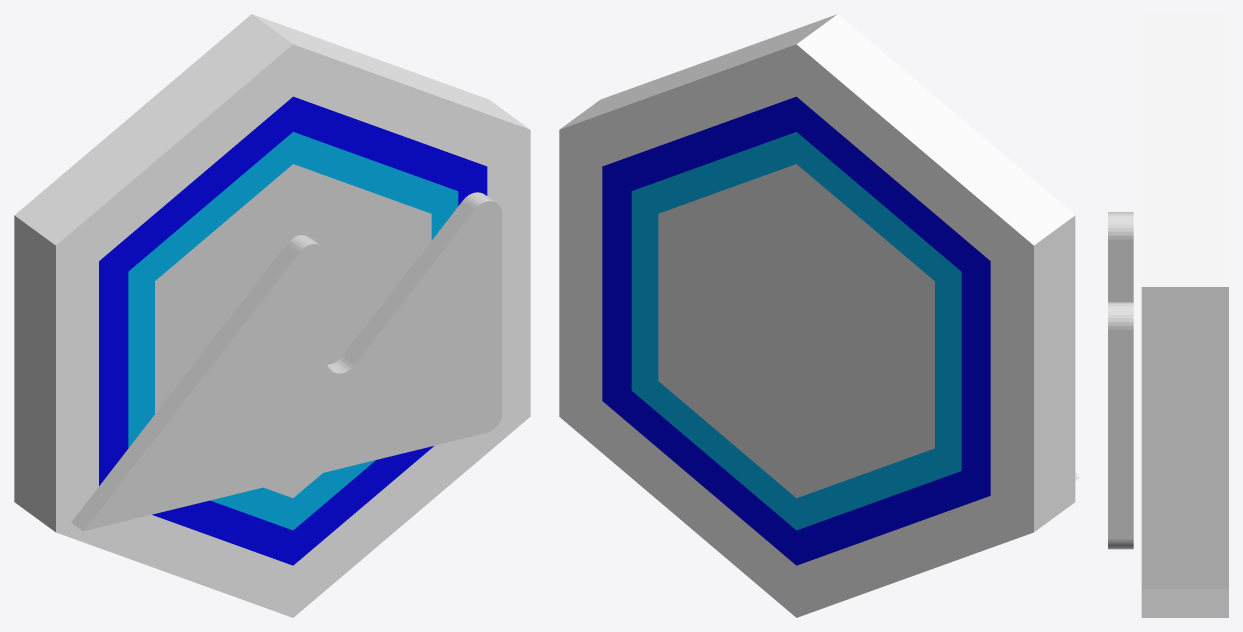
The model's file is hexagono3d.glb.
The picture shows the model from 3 angles, left to right: view 1: azimuth 30°, elevation 25°; view 2: azimuth 150°, elevation 25°; view 3: azimuth 270°, elevation 25°; orthographic projection. The views are drawn at different scales.
Parts seen in each view (by area): view 1: Hexagon, Icon; view 2: Hexagon; view 3: Hexagon, Icon.
Boxes of the visible parts, <box> form: Hexagon: <box>14,14,530,617</box>; Icon: <box>71,192,502,531</box>; Hexagon: <box>559,14,1075,617</box>; Hexagon: <box>1141,14,1228,617</box>; Icon: <box>1108,212,1133,549</box>.
Size of the model in its own units: 7.34 by 8.48 by 1.54.
